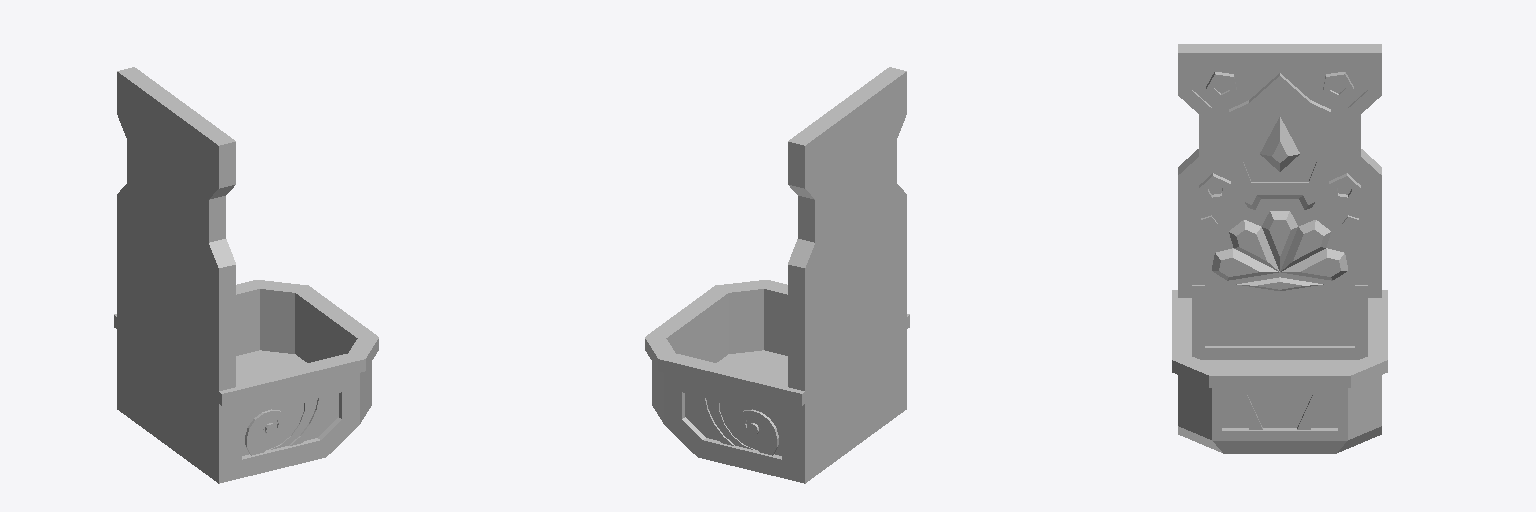
The model's file is FixtureFountain.obj.
3 views of the same model, side by side, from view 1: azimuth 30°, elevation 25°; view 2: azimuth 150°, elevation 25°; view 3: azimuth 270°, elevation 25° (orthographic).
Visible parts, largest first — view 1: FixtureFountain; view 2: FixtureFountain; view 3: FixtureFountain.
Boxes of the visible parts, box(x1,y1,x2,y2) form: FixtureFountain: box(114, 67, 378, 483); FixtureFountain: box(645, 67, 909, 483); FixtureFountain: box(1172, 44, 1387, 453).
Bounding box in the file's own units: 2.5 × 4.58 × 2.67.